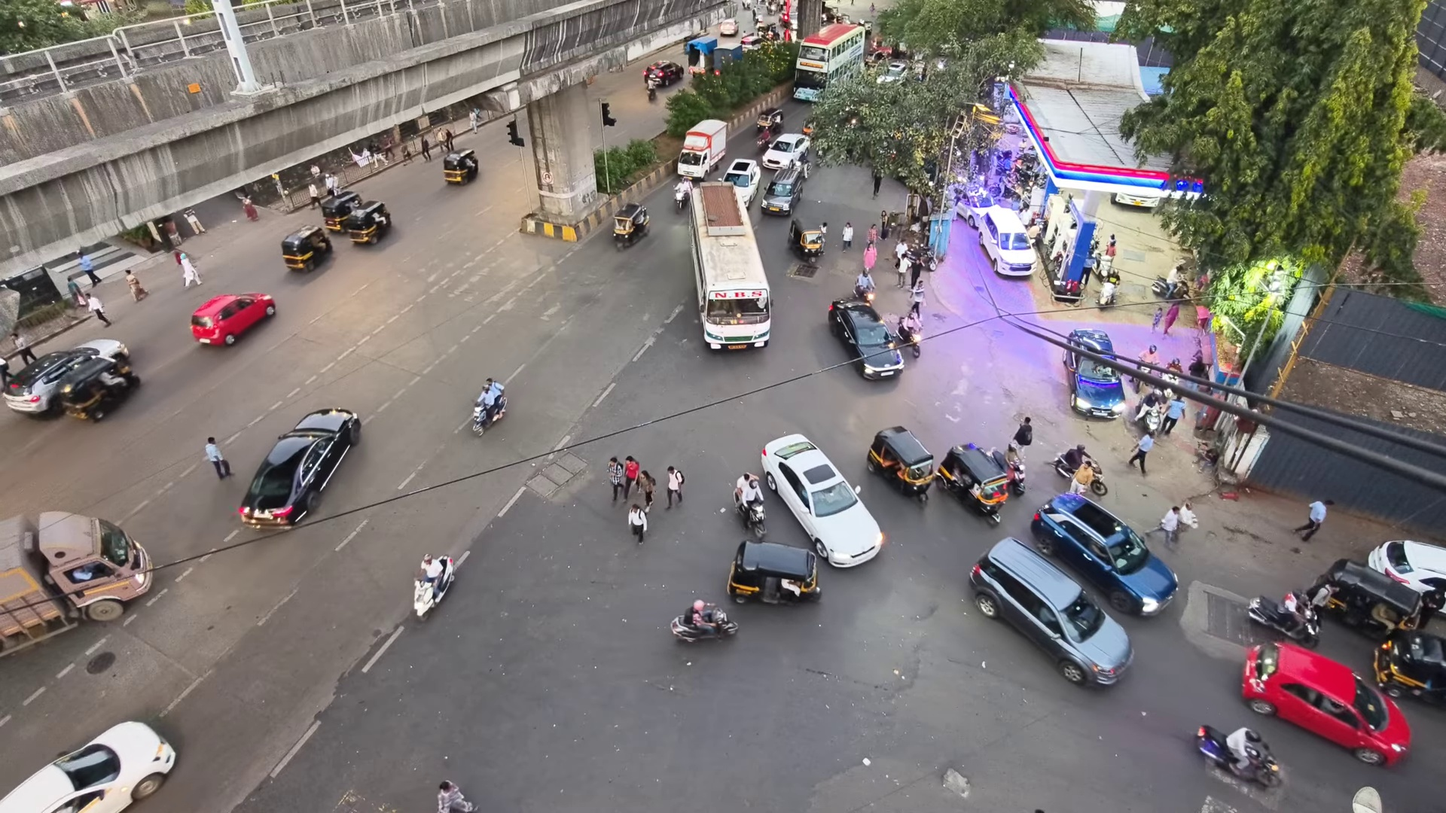driving: (969, 537, 1132, 684), (0, 511, 151, 653), (1242, 643, 1409, 765), (1031, 494, 1178, 615), (761, 434, 883, 567), (0, 721, 175, 812), (238, 408, 361, 527), (691, 182, 770, 349), (4, 339, 129, 415), (1311, 559, 1423, 639), (828, 299, 904, 379), (936, 443, 1009, 524), (728, 540, 820, 603), (793, 23, 867, 101), (1063, 328, 1125, 418), (1373, 631, 1445, 706), (866, 426, 935, 502), (56, 358, 140, 420), (1195, 726, 1280, 787), (191, 292, 274, 345), (1366, 540, 1445, 592), (980, 206, 1037, 276), (1247, 593, 1319, 648), (677, 119, 727, 180), (413, 556, 455, 620), (670, 604, 737, 642), (281, 224, 333, 271), (760, 166, 804, 215), (343, 201, 391, 244), (722, 159, 761, 208), (471, 385, 507, 436), (761, 133, 810, 169), (788, 218, 824, 263), (614, 202, 649, 248), (956, 187, 996, 227), (321, 192, 362, 231), (735, 495, 766, 539), (442, 149, 478, 184), (895, 315, 923, 358), (642, 60, 685, 86), (1081, 457, 1108, 496), (755, 123, 782, 154), (1112, 192, 1164, 208), (755, 107, 784, 134), (876, 60, 908, 84), (674, 179, 693, 212), (740, 34, 764, 51), (719, 18, 739, 36)
walking: (1294, 500, 1334, 540), (1127, 432, 1154, 474), (438, 781, 474, 812), (204, 437, 230, 478), (1155, 507, 1180, 547), (1161, 394, 1185, 435), (78, 248, 100, 288), (11, 330, 35, 364), (1069, 463, 1095, 494), (607, 456, 624, 502), (87, 294, 111, 326), (627, 504, 646, 543), (124, 269, 147, 301), (667, 466, 684, 508), (181, 252, 201, 287), (638, 470, 655, 511), (624, 455, 639, 498), (1012, 417, 1032, 449), (1162, 301, 1180, 335), (183, 208, 205, 233), (910, 254, 926, 287), (1179, 500, 1197, 529), (896, 254, 911, 288), (910, 280, 924, 315), (66, 278, 83, 306), (863, 240, 877, 272), (242, 199, 258, 221), (324, 173, 338, 197), (841, 221, 853, 249), (0, 356, 9, 388), (1152, 306, 1163, 332), (309, 181, 319, 209), (441, 129, 453, 152), (468, 108, 479, 133), (872, 170, 882, 197), (880, 210, 889, 239), (420, 136, 430, 160), (310, 164, 321, 181), (867, 224, 877, 242)
